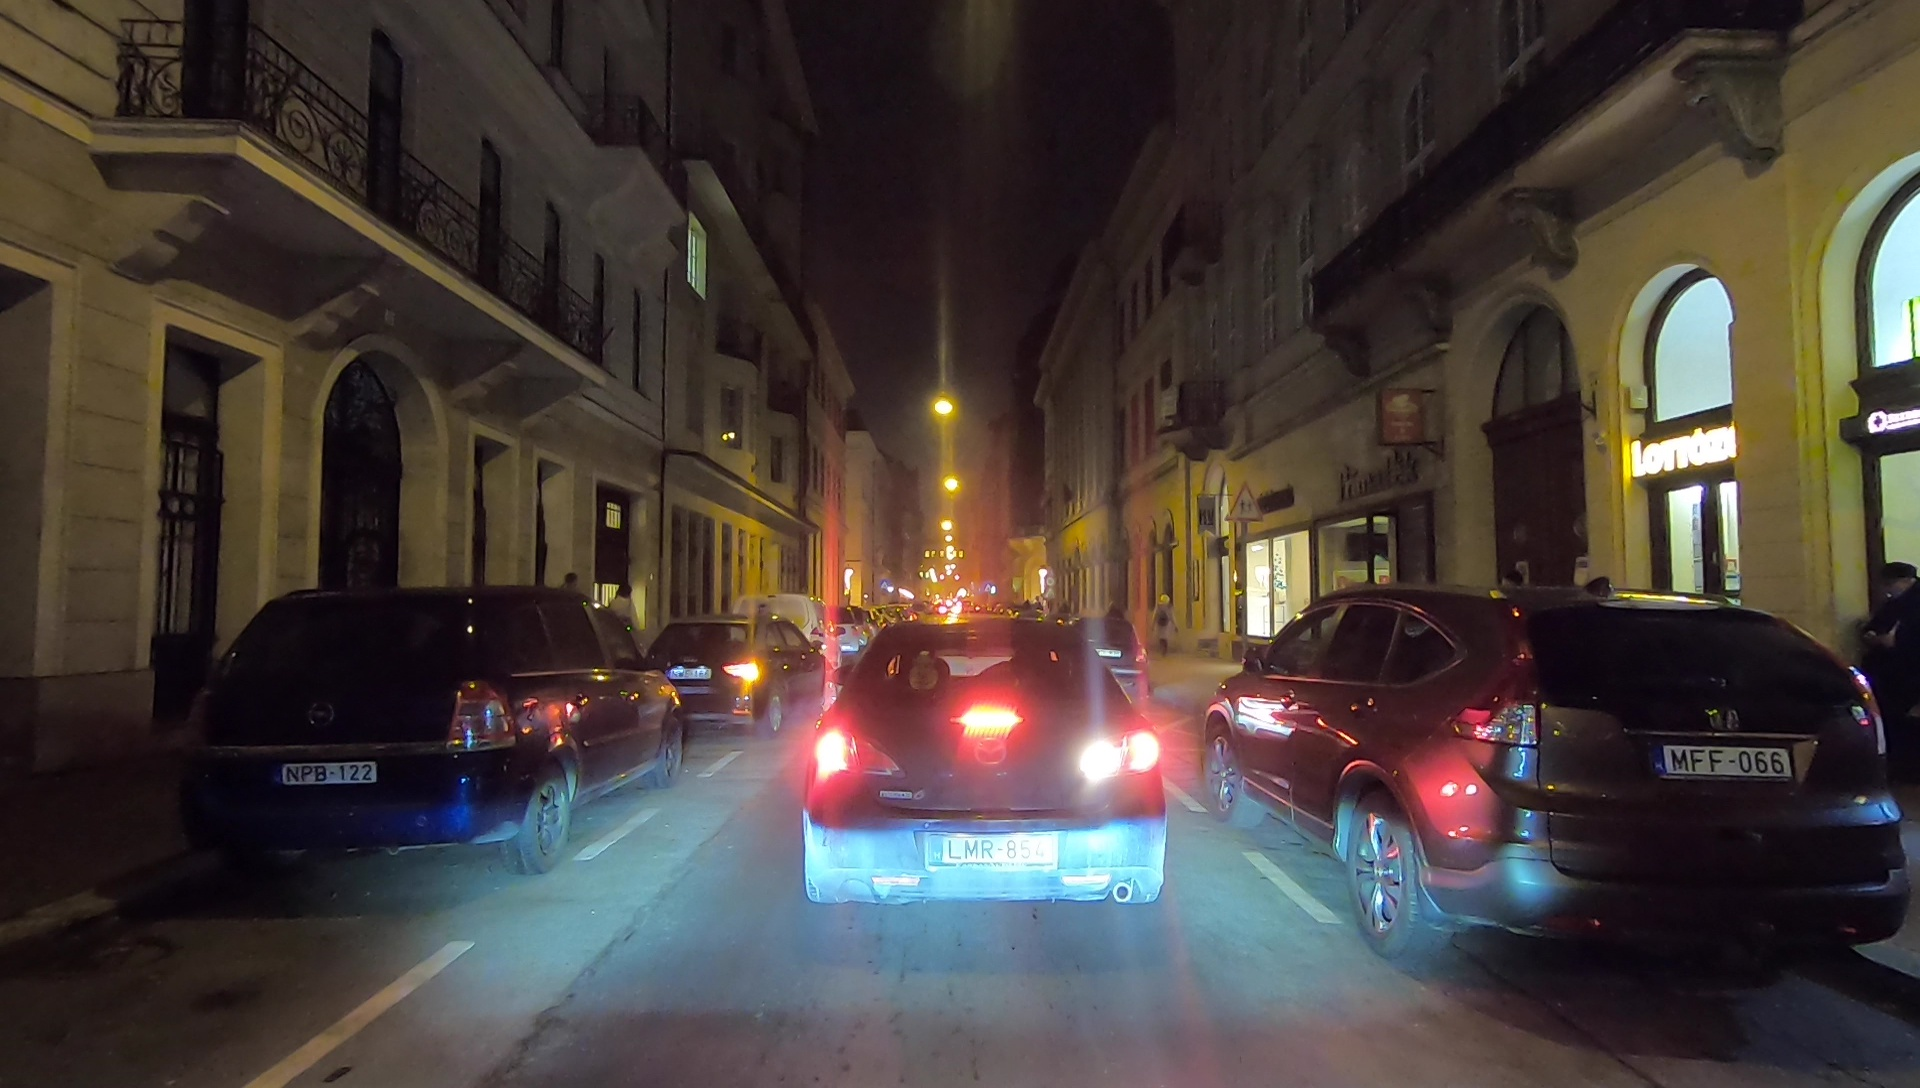person: (1847, 560, 1917, 782), (608, 587, 638, 669), (1151, 593, 1176, 656)
